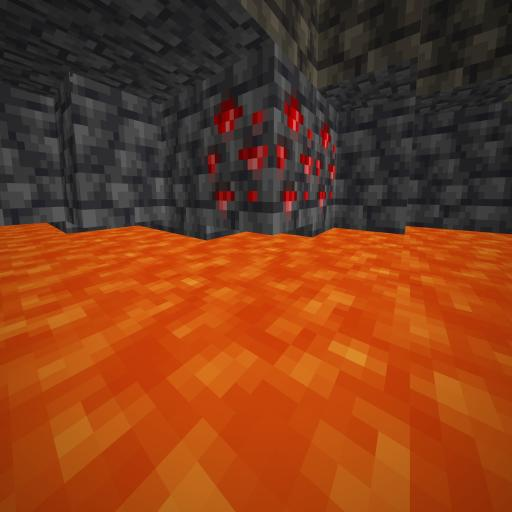redstone ore: (198, 72, 344, 235)
